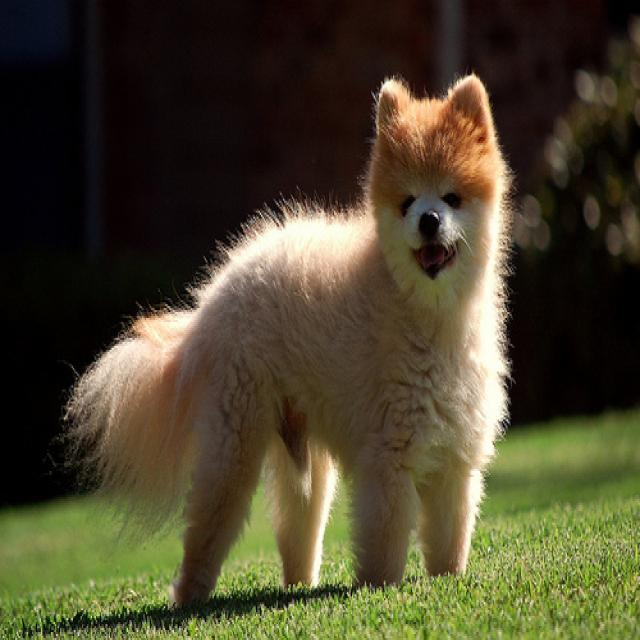dog-pomeranian: (51, 62, 522, 614)
